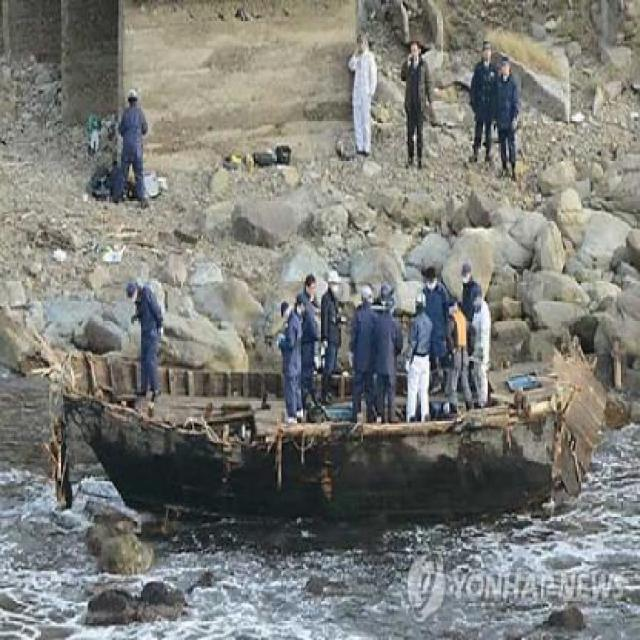fish-b: (33, 337, 611, 534)
